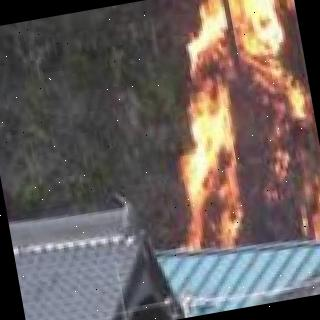fire: (141, 0, 320, 270)
